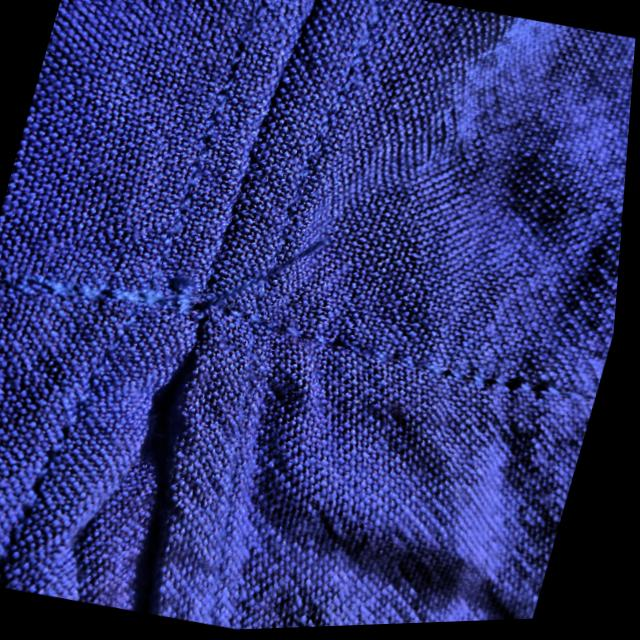Stitch: (149, 192, 393, 359)
